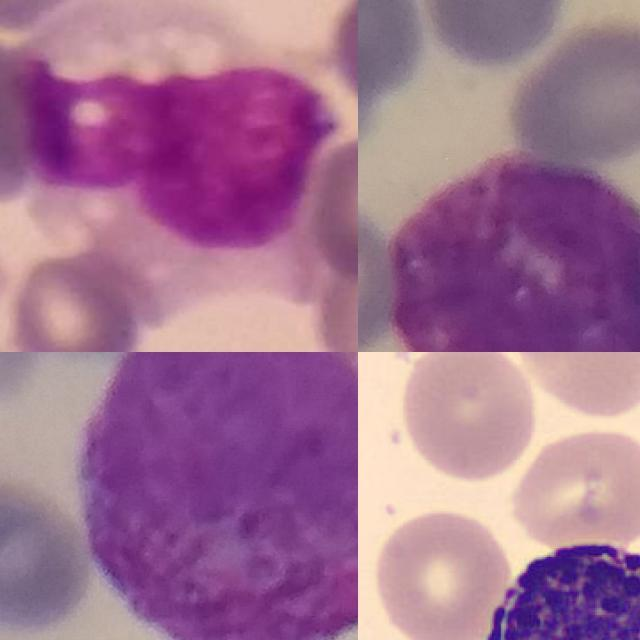Basophil: (76, 352, 358, 640), (388, 156, 640, 352), (470, 527, 640, 640)
Monocyte: (18, 0, 333, 253)
RBC: (367, 502, 514, 640), (394, 352, 540, 481), (508, 423, 640, 548), (510, 352, 640, 421)
